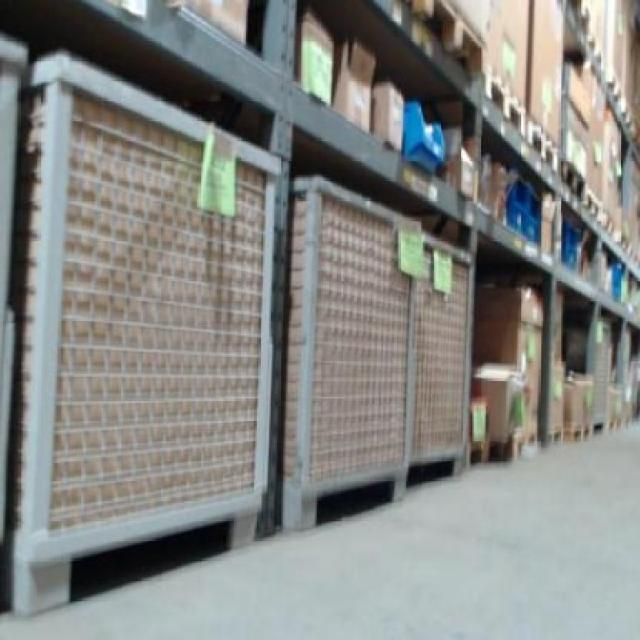pallets: (11, 51, 277, 609), (282, 175, 466, 526), (0, 32, 25, 609)
